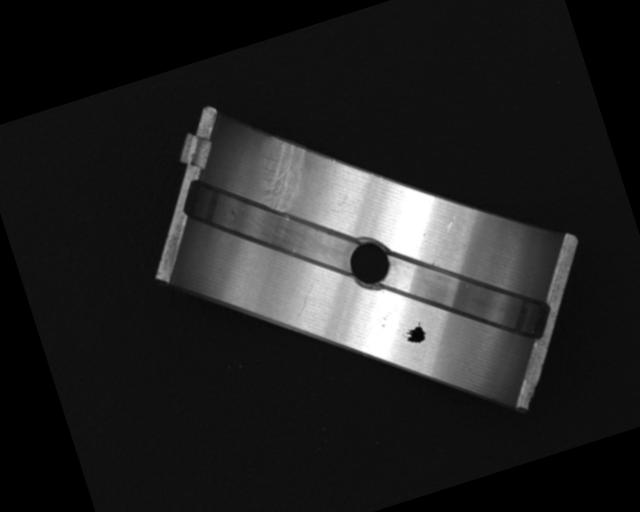blot: (398, 318, 429, 348)
gap: (182, 143, 365, 315), (380, 220, 556, 377)
hole: (344, 235, 396, 291)
nick: (420, 214, 469, 267), (289, 282, 321, 320)
scratch: (246, 131, 320, 217)
